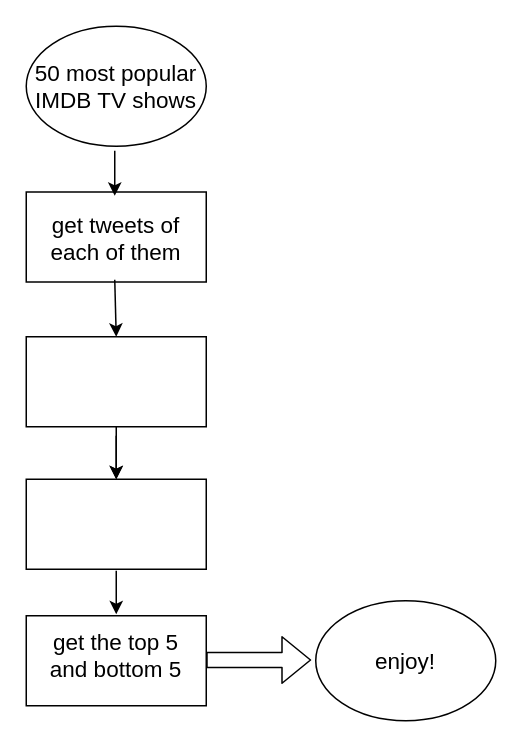
Image size: 522x747. Some labels were removed from this diagram. The centre of each missing label's shape, as x and y in pixels:
calculate the sentiment scores: the point at 115,523
feed them to the Google API: the point at 115,381
